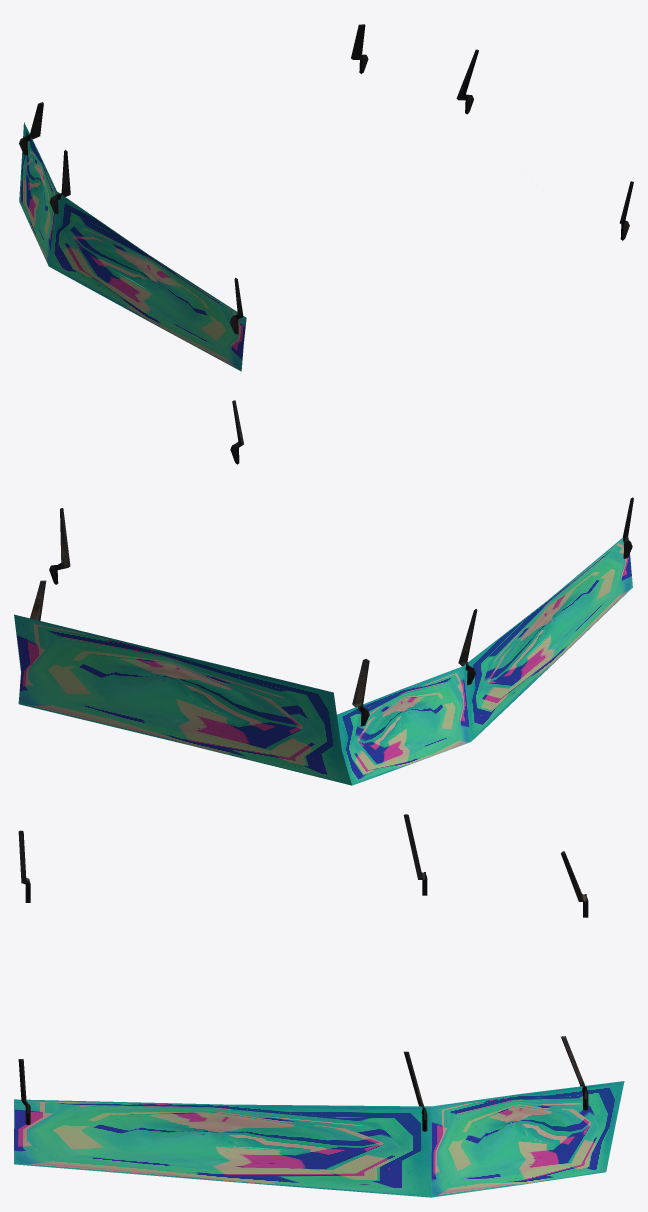
The model's file is combine_bunker_shield01b.glb.
The picture shows the model from 3 angles, top to bottom: view 1: azimuth 30°, elevation 25°; view 2: azimuth 150°, elevation 25°; view 3: azimuth 270°, elevation 25°; orthographic projection. The views are drawn at different scales.
Parts seen in each view (by area): view 1: combine_bunker_shield01b; view 2: combine_bunker_shield01b; view 3: combine_bunker_shield01b.
Boxes of the visible parts, x1,y1,x2,y2 form: combine_bunker_shield01b: (19, 24, 633, 371); combine_bunker_shield01b: (14, 400, 633, 785); combine_bunker_shield01b: (14, 814, 624, 1197).
Size of the model in its own units: 4.19 by 1.16 by 4.49.
Materials: 2 (2 with a texture image).
